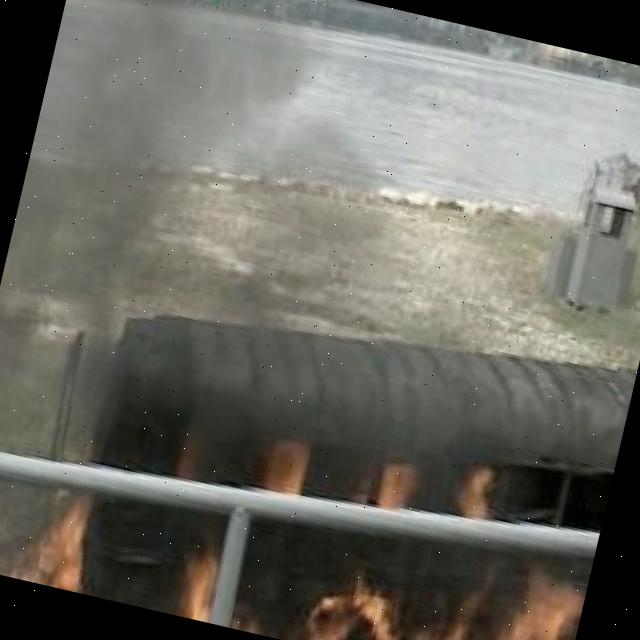fire: (294, 527, 586, 640), (166, 406, 334, 508), (372, 462, 504, 538), (15, 474, 100, 592), (170, 514, 252, 627)
